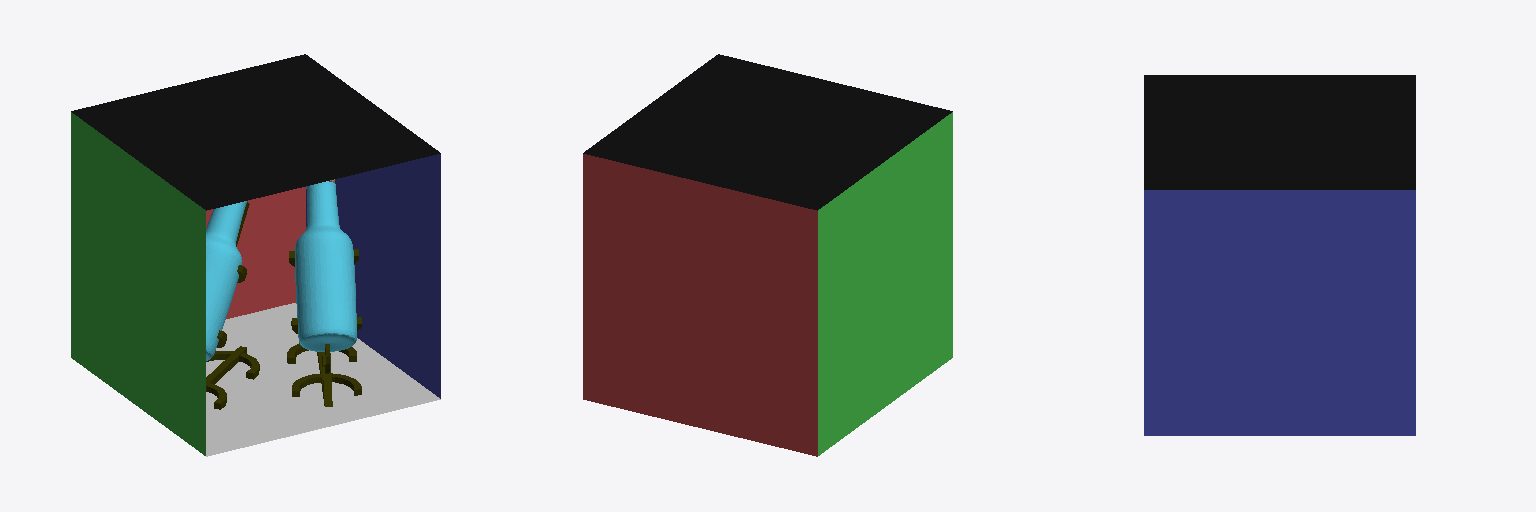
The model's file is cornellbottle2.obj.
The picture shows the model from 3 angles: view 1: azimuth 30°, elevation 25°; view 2: azimuth 150°, elevation 25°; view 3: azimuth 270°, elevation 25°; orthographic projection.
Parts seen in each view (by area): view 1: Box001, Box003, Box004, Box002, Line006, Box005, Line001, Line007, Line004; view 2: Box005, Box001, Box003; view 3: Box004, Box003.
Part boxes in pixels (bbox=[...]): Box001: bbox=[71, 112, 205, 455]; Box003: bbox=[71, 54, 440, 210]; Box004: bbox=[306, 154, 440, 398]; Box002: bbox=[206, 303, 440, 456]; Line006: bbox=[295, 181, 356, 351]; Box005: bbox=[206, 187, 305, 318]; Line001: bbox=[206, 201, 246, 360]; Line007: bbox=[287, 249, 361, 406]; Line004: bbox=[206, 202, 259, 409]; Box005: bbox=[583, 154, 817, 456]; Box001: bbox=[818, 112, 952, 455]; Box003: bbox=[583, 54, 952, 210]; Box004: bbox=[1144, 190, 1415, 435]; Box003: bbox=[1144, 75, 1415, 189].
Size of the model in its own units: 2 by 2.01 by 2.